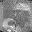people: (2, 18, 14, 29)
